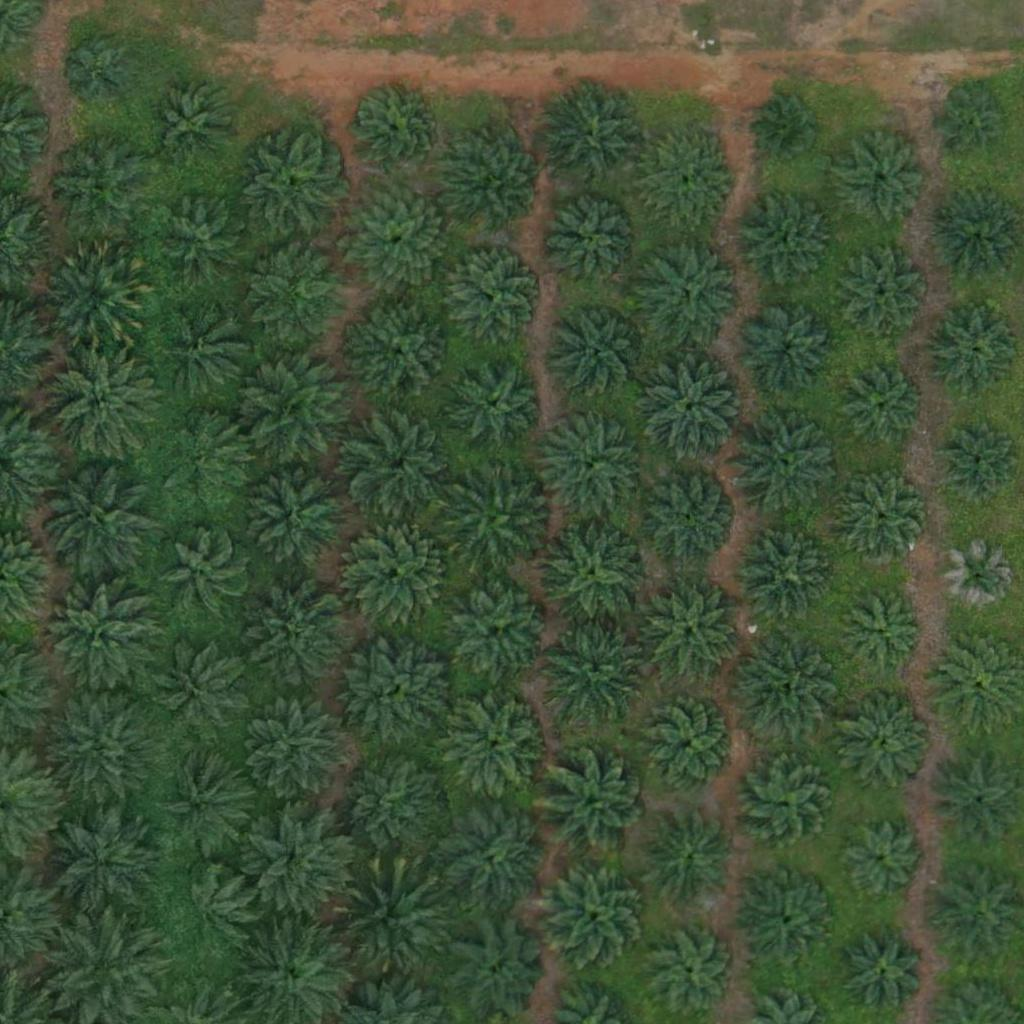Kelapa_Sawit: (342, 184, 455, 298), (346, 296, 459, 410), (443, 460, 556, 574), (535, 517, 648, 631), (543, 616, 656, 730), (40, 240, 153, 353), (44, 344, 157, 457), (39, 461, 152, 574), (43, 583, 156, 696), (241, 691, 354, 804), (730, 407, 843, 520), (537, 748, 650, 861), (539, 858, 652, 971), (243, 805, 356, 918), (533, 410, 645, 524), (730, 632, 842, 746), (46, 691, 158, 804), (244, 354, 356, 467), (242, 462, 354, 575), (346, 411, 458, 524), (345, 635, 457, 748), (537, 81, 649, 194), (637, 351, 749, 464), (336, 751, 448, 864), (335, 866, 447, 979), (45, 806, 157, 919), (48, 137, 148, 238), (250, 586, 350, 687), (348, 522, 448, 623), (445, 136, 545, 237), (450, 579, 550, 680), (546, 195, 646, 296), (548, 301, 648, 402), (639, 133, 739, 234), (641, 239, 741, 340), (735, 191, 835, 292), (738, 299, 838, 400), (736, 523, 836, 624), (832, 129, 932, 230), (639, 807, 739, 908), (443, 694, 543, 795), (440, 806, 540, 907), (449, 922, 549, 1023), (155, 752, 255, 853), (241, 136, 341, 236), (254, 246, 354, 346), (445, 245, 545, 345), (448, 356, 548, 456), (640, 467, 740, 567), (642, 584, 742, 684), (836, 691, 936, 791), (735, 753, 835, 853), (739, 869, 839, 969), (639, 694, 739, 794), (840, 253, 928, 342), (148, 81, 236, 169), (159, 311, 247, 399), (934, 196, 1022, 284), (931, 309, 1019, 397), (839, 820, 927, 908), (164, 869, 252, 957), (164, 201, 251, 289), (163, 415, 250, 503), (158, 529, 245, 617), (159, 645, 246, 733), (349, 84, 436, 172), (837, 367, 924, 455), (840, 477, 927, 565), (648, 927, 735, 1015), (846, 594, 921, 670), (848, 937, 923, 1013), (940, 427, 1015, 502), (942, 541, 1017, 616), (941, 92, 1004, 155), (758, 94, 821, 157), (66, 39, 129, 102)
